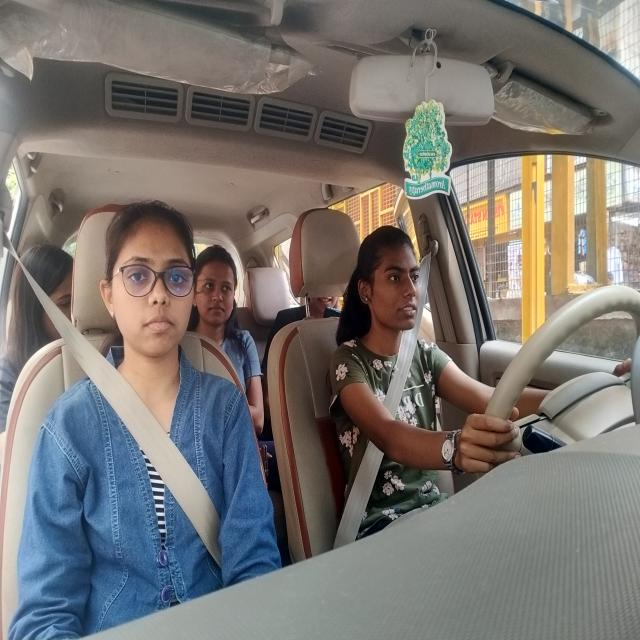person: (97, 195, 199, 364), (352, 224, 426, 334), (11, 248, 78, 354), (198, 240, 237, 335), (313, 294, 341, 312)
